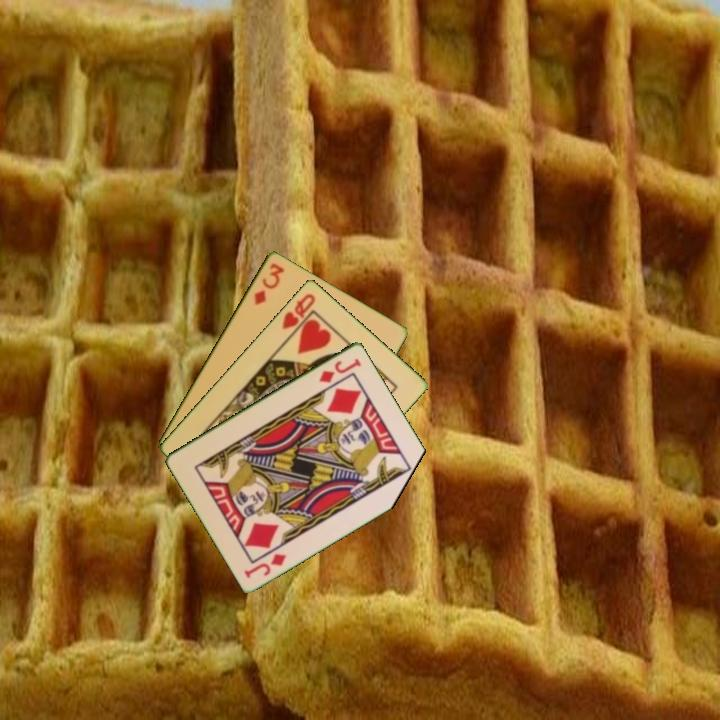3d: (250, 259, 288, 308)
Jd: (240, 549, 289, 581), (315, 354, 364, 385)
Qh: (278, 289, 318, 332)
